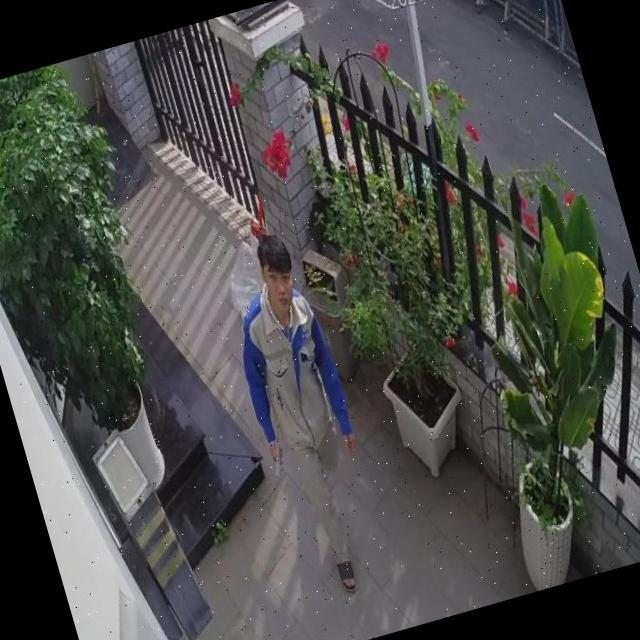person: (210, 224, 399, 602)
